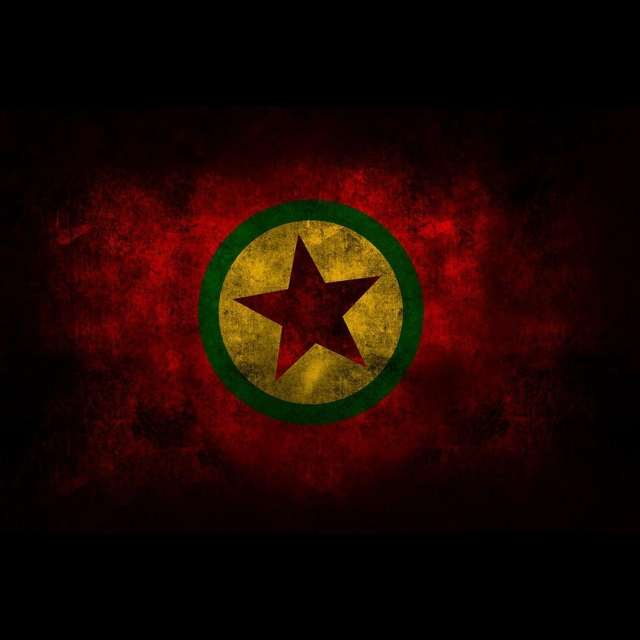PKK: (190, 193, 428, 429)
